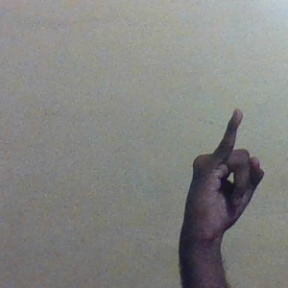I: (184, 107, 266, 234)
